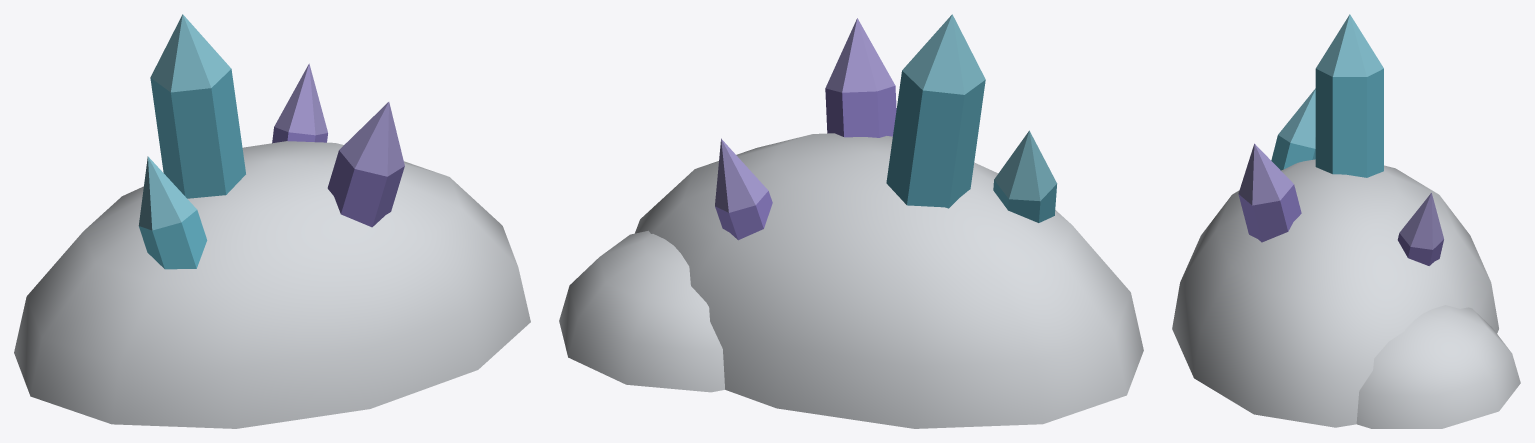
Rendered from ice-prop2.glb.
The picture shows the model from 3 angles, left to right: view 1: azimuth 30°, elevation 25°; view 2: azimuth 150°, elevation 25°; view 3: azimuth 270°, elevation 25°; orthographic projection. The views are drawn at different scales.
Visible parts, largest first — view 1: ice-prop2; view 2: ice-prop2; view 3: ice-prop2.
Part boxes in pixels (x1,y1,x2,y2): ice-prop2: [14, 14, 530, 428]; ice-prop2: [559, 14, 1143, 428]; ice-prop2: [1172, 14, 1520, 428].
Size of the model in its own units: 1.65 by 1.09 by 1.22.
